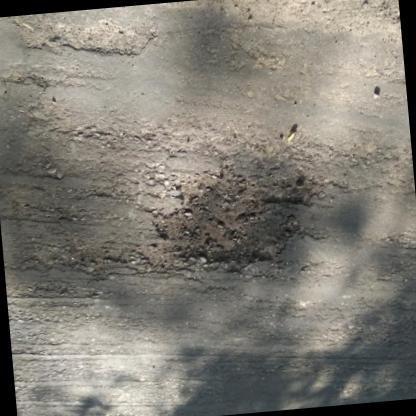pothole: (146, 164, 310, 278), (52, 14, 152, 66)
